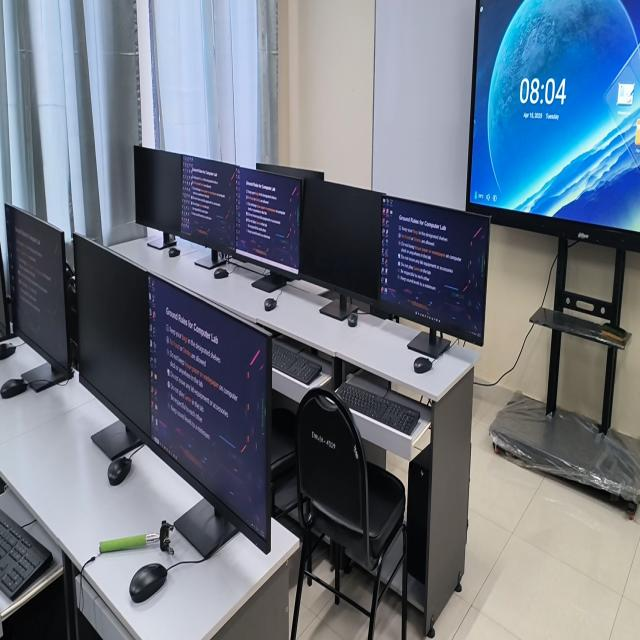Chair: (291, 389, 408, 639)
Digital board: (466, 0, 640, 252)
Keyboard: (0, 510, 52, 600), (336, 383, 420, 434), (272, 340, 322, 385), (11, 553, 16, 561)
Monitor: (149, 277, 267, 537), (380, 196, 489, 345), (75, 234, 150, 441), (5, 204, 71, 376), (299, 179, 381, 300), (236, 167, 301, 274), (180, 156, 236, 252), (134, 146, 181, 234)
Mouse: (129, 564, 167, 603), (108, 456, 131, 485), (0, 378, 27, 398), (414, 357, 432, 373), (0, 343, 16, 360), (264, 297, 277, 311), (214, 268, 229, 279), (169, 246, 180, 257), (350, 314, 356, 319)
